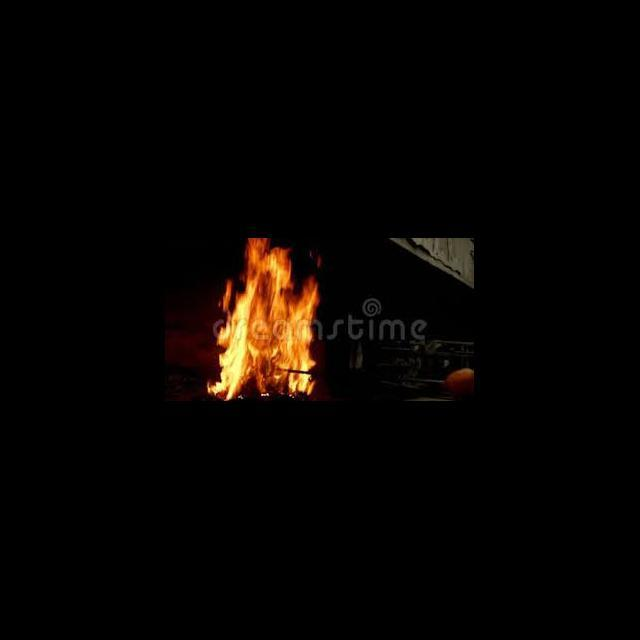Fire: (208, 238, 320, 402)
